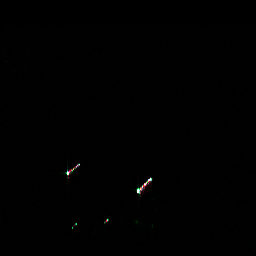ship: (134, 175, 154, 195), (63, 160, 83, 178), (69, 220, 79, 230), (101, 216, 111, 225)
